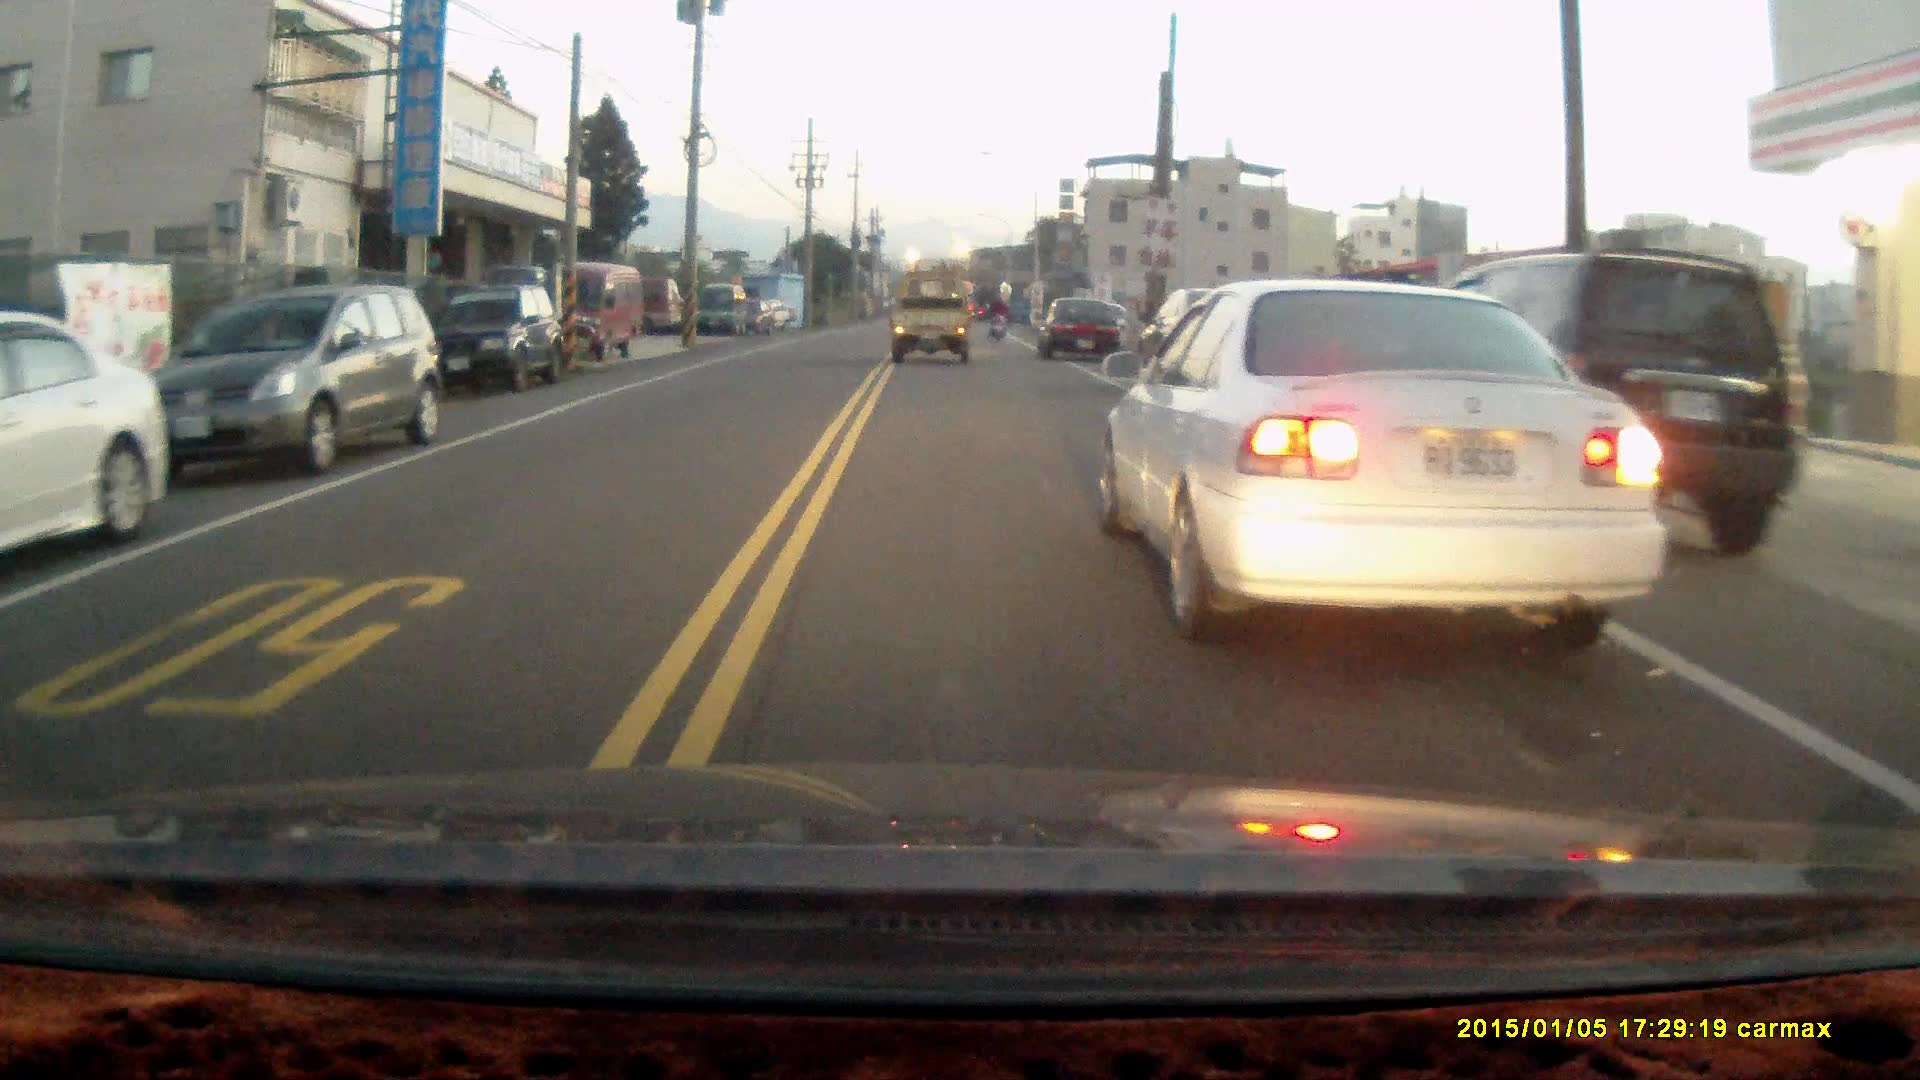rider: (984, 291, 1011, 339)
vehicle: (1108, 270, 1675, 655), (1419, 247, 1800, 565), (151, 279, 442, 471), (1, 307, 169, 562), (448, 277, 562, 393), (539, 261, 649, 357), (892, 268, 972, 364), (1038, 295, 1132, 362), (695, 280, 754, 333)
